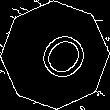O_SW: (22, 22, 88, 88)
